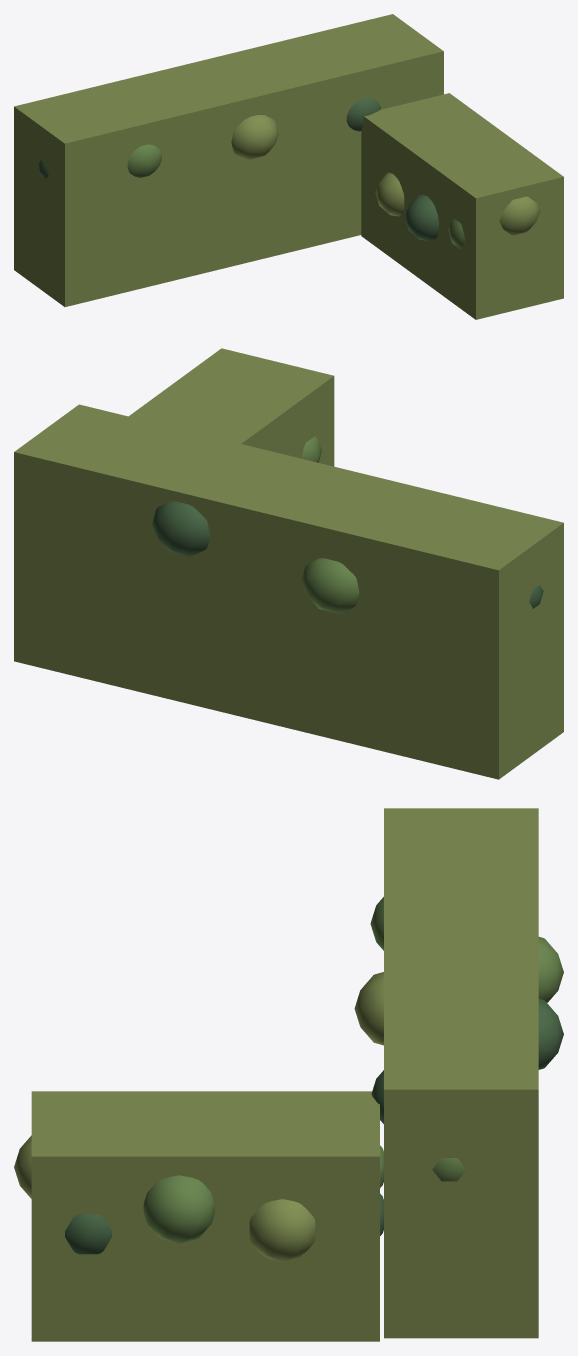
The picture shows the model from 3 angles, top to bottom: view 1: azimuth 30°, elevation 25°; view 2: azimuth 150°, elevation 25°; view 3: azimuth 270°, elevation 25°; orthographic projection. The views are drawn at different scales.
Visible parts, largest first — view 1: climb-hedge-8-0, climb-hedge-8-1, 생울타리 09; view 2: climb-hedge-8-0, climb-hedge-8-1, 생울타리 09; view 3: climb-hedge-8-0, climb-hedge-8-1, 생울타리 09.
Boxes of the visible parts, x1,y1,x2,y2 form: climb-hedge-8-0: (14, 14, 443, 306); climb-hedge-8-1: (361, 93, 563, 319); 생울타리 09: (37, 98, 540, 249); climb-hedge-8-0: (14, 404, 563, 779); climb-hedge-8-1: (129, 348, 334, 466); 생울타리 09: (152, 436, 543, 613); climb-hedge-8-0: (384, 808, 538, 1338); climb-hedge-8-1: (31, 1091, 379, 1341); 생울타리 09: (14, 897, 563, 1262).
Bounding box in the file's own units: 4.61 × 1.77 × 3.55.
